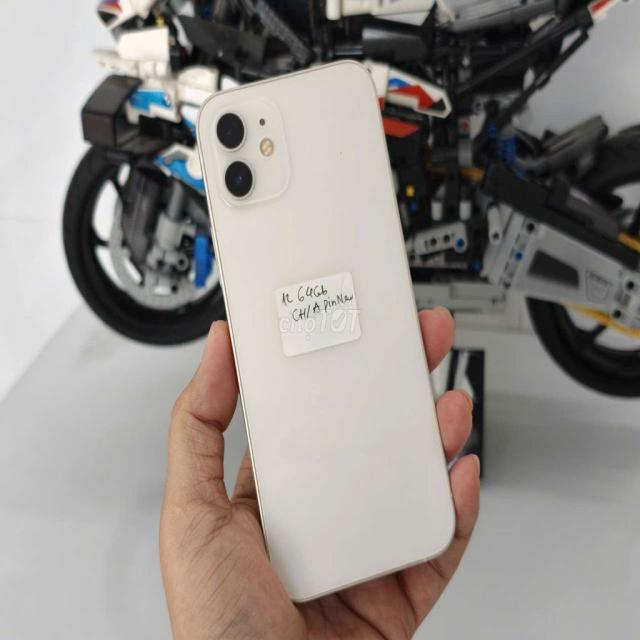gen_12_13: (199, 56, 458, 609)
